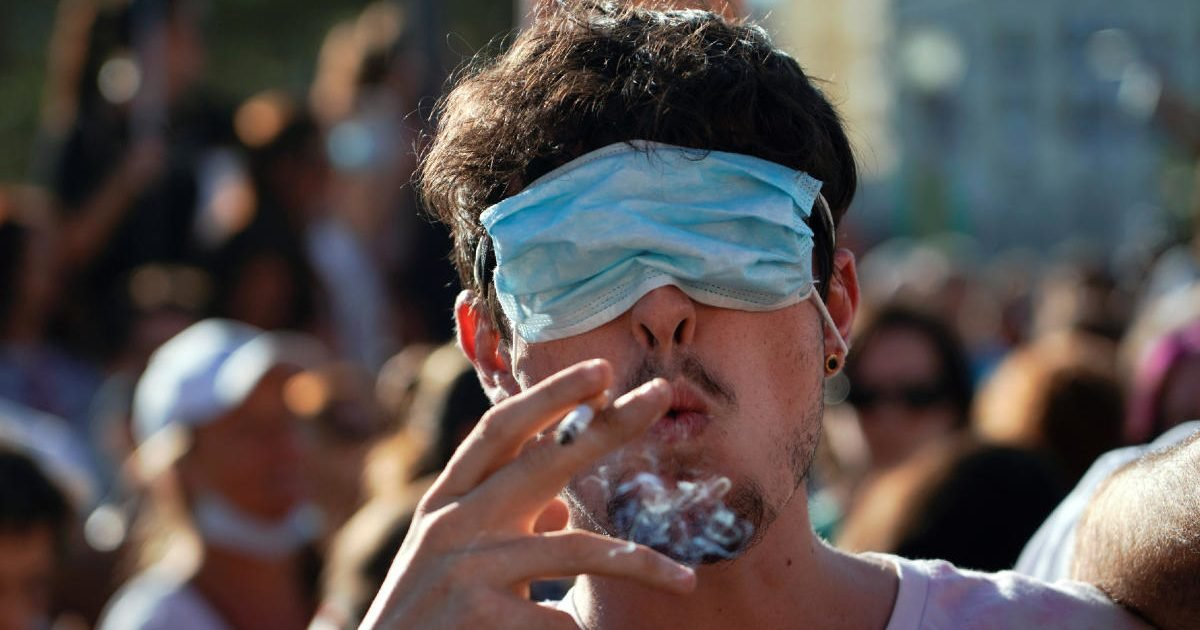with_incorrect_mask: (484, 186, 822, 520)
